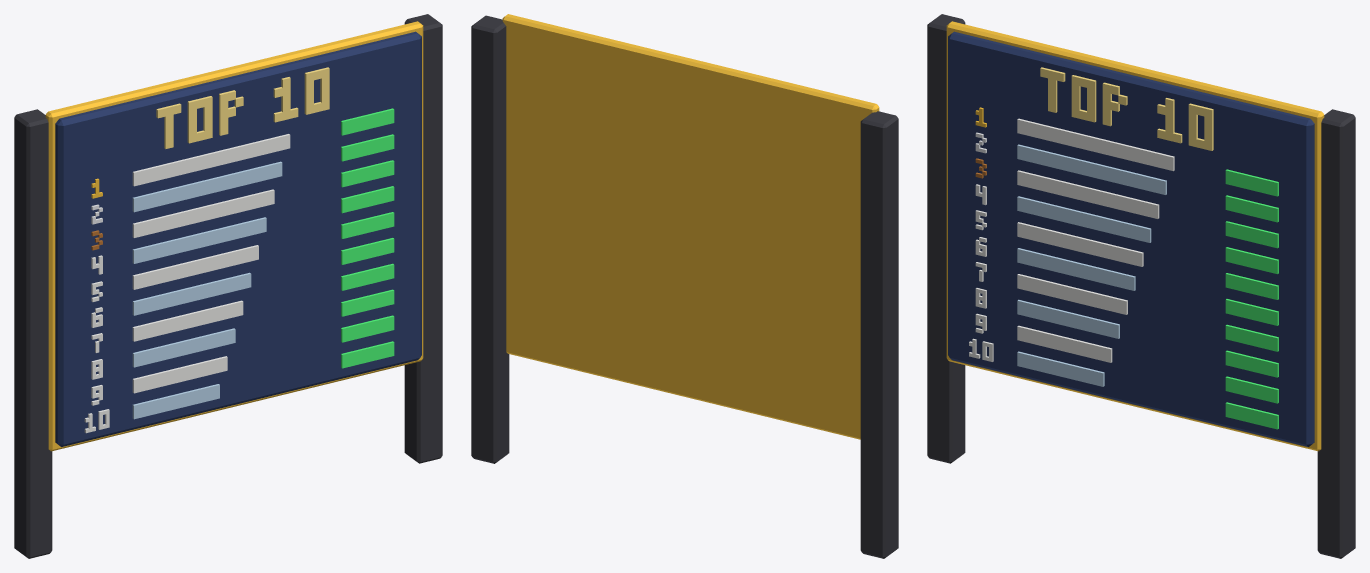
The model's file is Leaderboard.fbx.
3 views of the same model, side by side, from view 1: azimuth 30°, elevation 25°; view 2: azimuth 150°, elevation 25°; view 3: azimuth 330°, elevation 25° (orthographic).
Parts seen in each view (by area): view 1: Leaderboard_Board, Leaderboard; view 2: Leaderboard_Board, Leaderboard; view 3: Leaderboard_Board, Leaderboard.
Boxes of the visible parts, x1,y1,x2,y2 form: Leaderboard_Board: (45, 21, 423, 451); Leaderboard: (14, 14, 442, 558); Leaderboard_Board: (502, 14, 879, 439); Leaderboard: (471, 15, 898, 558); Leaderboard_Board: (946, 21, 1324, 451); Leaderboard: (927, 14, 1355, 558).
Bounding box in the file's own units: 16 × 16.2 × 1.52.
Materials: 1 (1 with a texture image).
